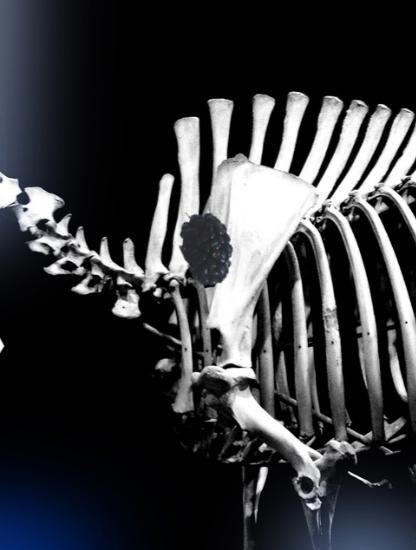Mulberry: (167, 205, 251, 289)
